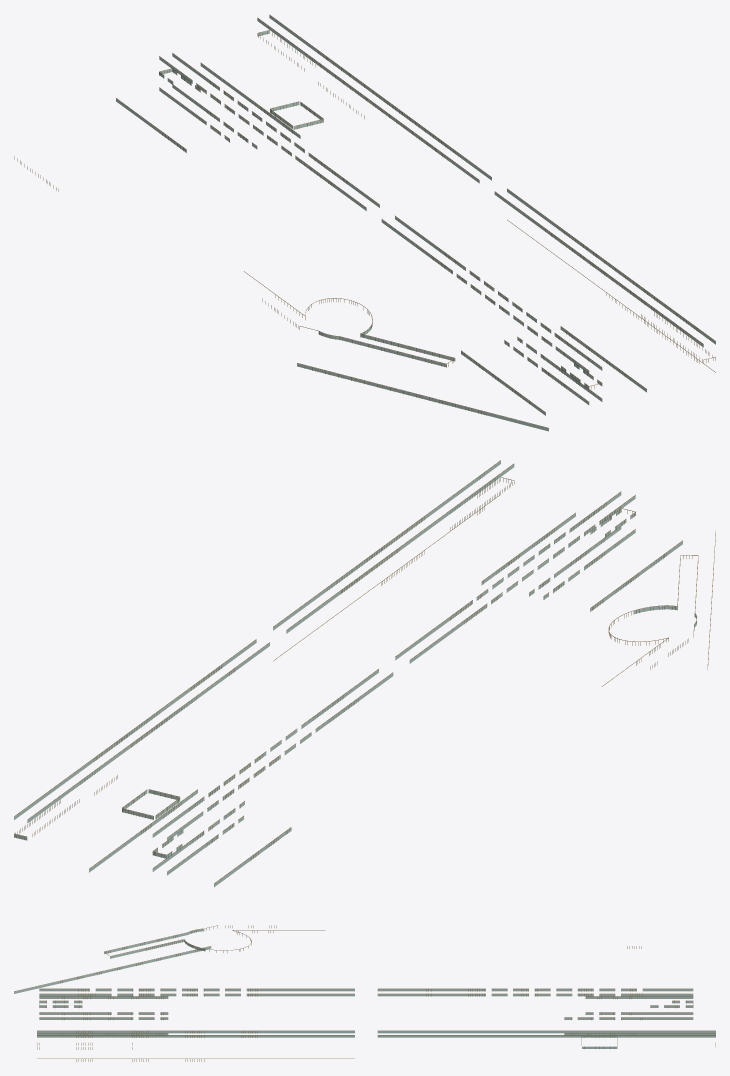
Rendered from Sunset47Receiving_r003.glb.
3 renders of one model, top to bottom at view 1: azimuth 30°, elevation 25°; view 2: azimuth 150°, elevation 25°; view 3: azimuth 270°, elevation 25°, orthographic. The views are drawn at different scales.
Visible parts, largest first — view 1: SC_Batch_212, SC_Batch_207, SC_Batch_180, SC_Batch_170, SC_Batch_210, SC_Batch_203, SC_Batch_177, SC_Batch_169; view 2: SC_Batch_212, SC_Batch_207, SC_Batch_170, SC_Batch_180, SC_Batch_210, SC_Batch_203, SC_Batch_169, SC_Batch_209, SC_Batch_177; view 3: SC_Batch_212, SC_Batch_207, SC_Batch_180, SC_Batch_210, SC_Batch_170, SC_Batch_203, SC_Batch_177, SC_Batch_169, SC_Batch_178, SC_Batch_209.
Part boxes in pixels (bbox=[...]): SC_Batch_212: bbox=[318, 189, 715, 373]; SC_Batch_207: bbox=[159, 15, 491, 210]; SC_Batch_180: bbox=[297, 327, 646, 431]; SC_Batch_170: bbox=[116, 63, 322, 152]; SC_Batch_210: bbox=[319, 188, 715, 370]; SC_Batch_203: bbox=[159, 14, 491, 207]; SC_Batch_177: bbox=[297, 326, 699, 427]; SC_Batch_169: bbox=[14, 62, 364, 191]; SC_Batch_212: bbox=[273, 461, 696, 663]; SC_Batch_207: bbox=[14, 639, 393, 841]; SC_Batch_170: bbox=[89, 789, 290, 887]; SC_Batch_180: bbox=[482, 513, 715, 670]; SC_Batch_210: bbox=[273, 460, 698, 660]; SC_Batch_203: bbox=[14, 639, 392, 837]; SC_Batch_169: bbox=[89, 775, 291, 883]; SC_Batch_209: bbox=[336, 549, 694, 686]; SC_Batch_177: bbox=[477, 507, 715, 666]; SC_Batch_212: bbox=[37, 929, 354, 1037]; SC_Batch_207: bbox=[377, 989, 715, 1037]; SC_Batch_180: bbox=[14, 946, 211, 1034]; SC_Batch_210: bbox=[37, 928, 354, 1037]; SC_Batch_170: bbox=[564, 996, 715, 1048]; SC_Batch_203: bbox=[378, 988, 715, 1035]; SC_Batch_177: bbox=[14, 946, 210, 1061]; SC_Batch_169: bbox=[564, 946, 715, 1048]; SC_Batch_178: bbox=[37, 949, 354, 1061]; SC_Batch_209: bbox=[204, 925, 325, 1037].
Bounding box in the file's own units: 91.72 × 10.14 × 241.
Materials: 2 (1 with a texture image).
